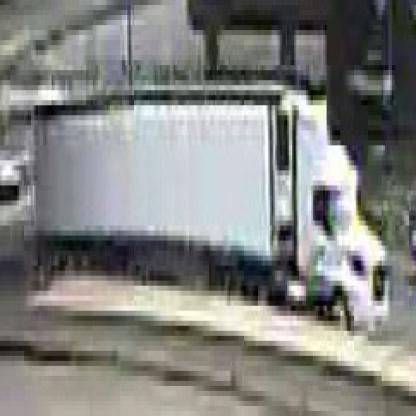container: (27, 71, 388, 337)
